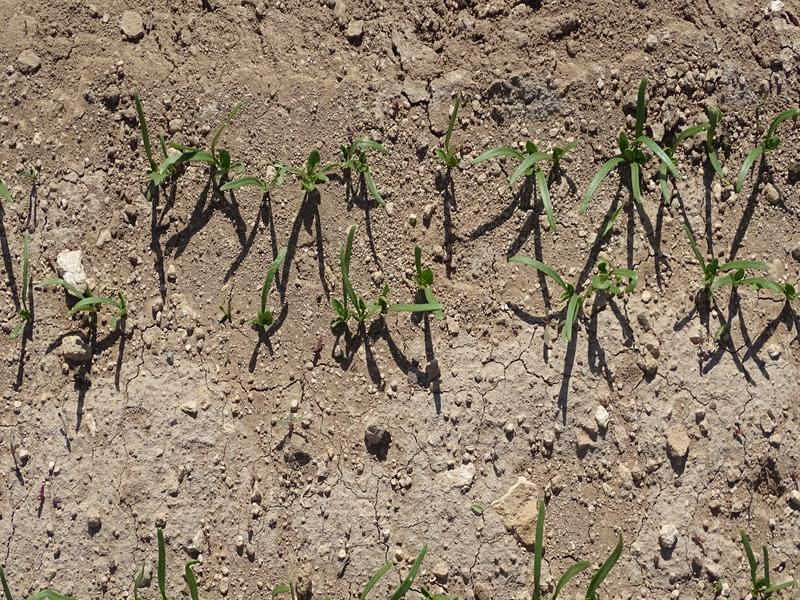Espinaca: (440, 116, 572, 218), (585, 90, 699, 204), (328, 228, 445, 333), (512, 246, 633, 334), (241, 130, 381, 201), (144, 103, 243, 190), (681, 226, 786, 303), (703, 110, 793, 189), (248, 243, 292, 337), (7, 231, 31, 338), (59, 291, 131, 324)
